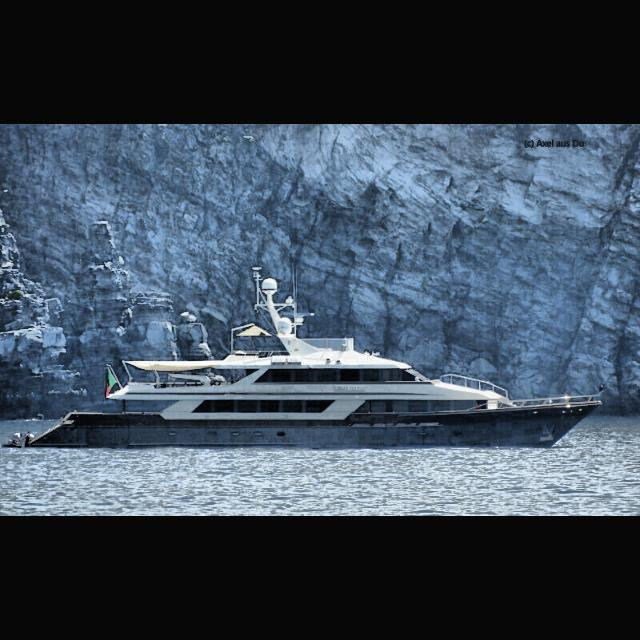yacht: (2, 278, 606, 450)
